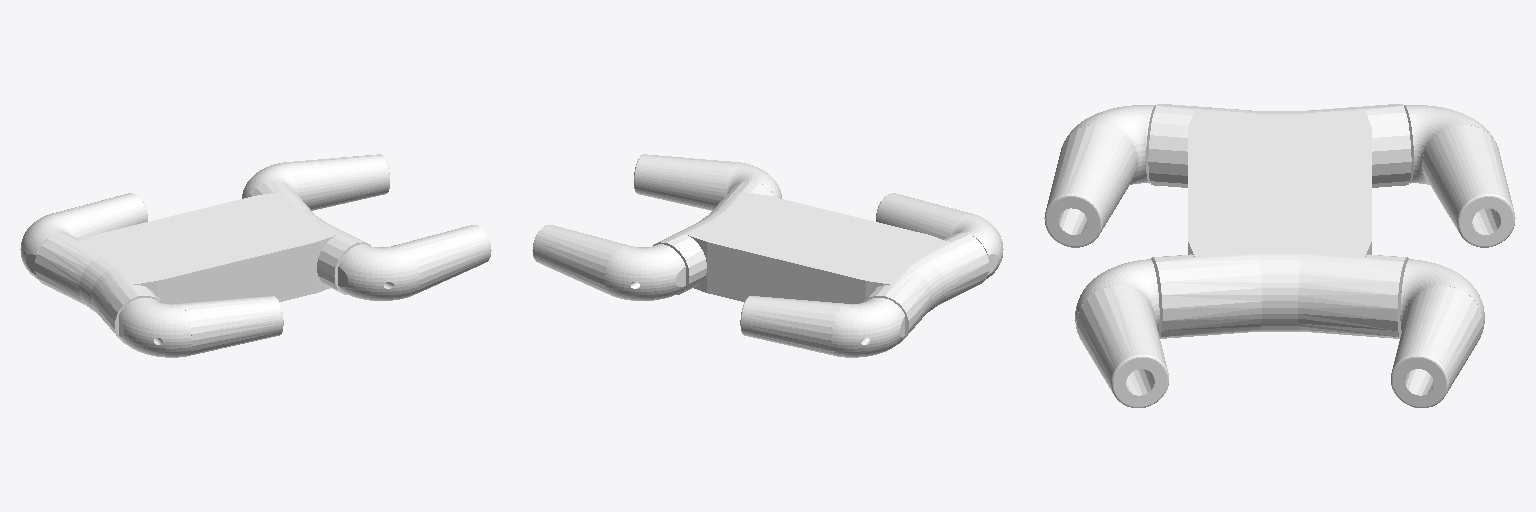
The robot description file, URDF, robot "10_degree":
<?xml version="1.0" encoding="utf-8"?>
<!-- This URDF was automatically created by SolidWorks to URDF Exporter! Originally created by [author] ([email redacted]) 
     Commit Version: 1.5.1-0-g916b5db  Build Version: 1.5.7152.31018
     For more information, please see http://wiki.ros.org/sw_urdf_exporter -->
<robot
  name="10_degree">
  <link
    name="base_link">
    <inertial>
      <origin
        xyz="-2.0817E-17 3.5739E-08 0"
        rpy="0 0 0" />
      <mass
        value="2.942" />
      <inertia
        ixx="0.0108347"
        ixy="-5.0441E-18"
        ixz="-1.037E-10"
        iyy="0.0404681"
        iyz="-5.3374E-18"
        izz="0.0486814" />
    </inertial>
    <visual>
      <origin
        xyz="0 0 0"
        rpy="0 0 0" />
      <geometry>
        <mesh
          filename="package://10_degree/meshes/base_link.STL" />
      </geometry>
      <material
        name="">
        <color
          rgba="1 1 1 1" />
      </material>
    </visual>
    <collision>
      <origin
        xyz="0 0 0"
        rpy="0 0 0" />
      <geometry>
        <mesh
          filename="package://10_degree/meshes/base_link.STL" />
      </geometry>
    </collision>
  </link>
  <link
    name="left_front_link">
    <inertial>
      <origin
        xyz="-2.4436E-08 0.05683 -0.036011"
        rpy="0 0 0" />
      <mass
        value="0.095" />
      <inertia
        ixx="0.0002672"
        ixy="5.6488E-10"
        ixz="9.186E-10"
        iyy="0.0000540"
        iyz="2.33E-05"
        izz="0.0002642" />
    </inertial>
    <visual>
      <origin
        xyz="0 0 0"
        rpy="0 0 0" />
      <geometry>
        <mesh
          filename="package://10_degree/meshes/left_front_link.STL" />
      </geometry>
      <material
        name="">
        <color
          rgba="1 1 1 1" />
      </material>
    </visual>
    <collision>
      <origin
        xyz="0 0 0"
        rpy="0 0 0" />
      <geometry>
        <mesh
          filename="package://10_degree/meshes/left_front_link.STL" />
      </geometry>
    </collision>
  </link>
  <joint
    name="left_front_leg"
    type="continuous">
    <origin
      xyz="0.14789 0.10144 0"
      rpy="1.7453 1.5708 0" />
    <parent
      link="base_link" />
    <child
      link="left_front_link" />
    <axis
      xyz="0 0 -1" />
    <limit
      effort="5"
      velocity="487" />
  </joint>
  <link
    name="right_front_link">
    <inertial>
      <origin
        xyz="2.4436E-08 0.05683 0.036011"
        rpy="0 0 0" />
      <mass
        value="0.095" />
      <inertia
        ixx="0.0002672"
        ixy="-5.6488E-10"
        ixz="9.186E-10"
        iyy="0.0000540"
        iyz="-2.33E-05"
        izz="0.0002642" />
    </inertial>
    <visual>
      <origin
        xyz="0 0 0"
        rpy="0 0 0" />
      <geometry>
        <mesh
          filename="package://10_degree/meshes/right_front_link.STL" />
      </geometry>
      <material
        name="">
        <color
          rgba="1 1 1 1" />
      </material>
    </visual>
    <collision>
      <origin
        xyz="0 0 0"
        rpy="0 0 0" />
      <geometry>
        <mesh
          filename="package://10_degree/meshes/right_front_link.STL" />
      </geometry>
    </collision>
  </link>
  <joint
    name="right_front_leg"
    type="continuous">
    <origin
      xyz="0.14789 -0.10144 0"
      rpy="1.3963 1.5708 0" />
    <parent
      link="base_link" />
    <child
      link="right_front_link" />
    <axis
      xyz="0 0 1" />
    <limit
      effort="5"
      velocity="487" />
  </joint>
  <link
    name="right_back_link">
    <inertial>
      <origin
        xyz="5.7759E-09 0.05683 0.03601"
        rpy="0 0 0" />
      <mass
        value="0.095" />
      <inertia
        ixx="0.0002672"
        ixy="-5.3462E-10"
        ixz="5.876E-10"
        iyy="0.0000540"
        iyz="-2.33E-05"
        izz="0.0002642" />
    </inertial>
    <visual>
      <origin
        xyz="0 0 0"
        rpy="0 0 0" />
      <geometry>
        <mesh
          filename="package://10_degree/meshes/right_back_link.STL" />
      </geometry>
      <material
        name="">
        <color
          rgba="1 1 1 1" />
      </material>
    </visual>
    <collision>
      <origin
        xyz="0 0 0"
        rpy="0 0 0" />
      <geometry>
        <mesh
          filename="package://10_degree/meshes/right_back_link.STL" />
      </geometry>
    </collision>
  </link>
  <joint
    name="right_back_leg"
    type="continuous">
    <origin
      xyz="-0.14789 -0.10144 0"
      rpy="1.7453 1.5708 0" />
    <parent
      link="base_link" />
    <child
      link="right_back_link" />
    <axis
      xyz="0 0 1" />
    <limit
      effort="5"
      velocity="487" />
  </joint>
  <link
    name="left_back_link">
    <inertial>
      <origin
        xyz="-5.7759E-09 0.05683 -0.03601"
        rpy="0 0 0" />
      <mass
        value="0.095" />
      <inertia
        ixx="0.0002672"
        ixy="5.3462E-10"
        ixz="5.876E-10"
        iyy="0.0000540"
        iyz="2.33E-05"
        izz="0.0002642" />
    </inertial>
    <visual>
      <origin
        xyz="0 0 0"
        rpy="0 0 0" />
      <geometry>
        <mesh
          filename="package://10_degree/meshes/left_back_link.STL" />
      </geometry>
      <material
        name="">
        <color
          rgba="1 1 1 1" />
      </material>
    </visual>
    <collision>
      <origin
        xyz="0 0 0"
        rpy="0 0 0" />
      <geometry>
        <mesh
          filename="package://10_degree/meshes/left_back_link.STL" />
      </geometry>
    </collision>
  </link>
  <joint
    name="left_back_leg"
    type="continuous">
    <origin
      xyz="-0.14789 0.10144 0"
      rpy="1.3963 1.5708 0" />
    <parent
      link="base_link" />
    <child
      link="left_back_link" />
    <axis
      xyz="0 0 -1" />
    <limit
      effort="5"
      velocity="487" />
  </joint>
</robot>

--- Render facts (derived) ---
3 views of the same robot in one strip: view 1: azimuth 30°, elevation 25°; view 2: azimuth 150°, elevation 25°; view 3: azimuth 270°, elevation 25° (orthographic).
Model 10_degree with 5 links and 4 joints (4 continuous), rooted at base_link, posed all joints at 0.
Links seen in each view (by area): view 1: base_link, right_back_link, right_front_link, left_front_link, left_back_link; view 2: base_link, left_back_link, left_front_link, right_front_link, right_back_link; view 3: base_link, right_back_link, left_back_link, left_front_link, right_front_link.
Link boxes in pixels (x1=…): base_link: x1=35, y1=181, x2=370, y2=344; right_back_link: x1=119, y1=296, x2=283, y2=357; right_front_link: x1=338, y1=225, x2=491, y2=300; left_front_link: x1=242, y1=154, x2=389, y2=210; left_back_link: x1=20, y1=193, x2=147, y2=278; base_link: x1=653, y1=181, x2=988, y2=344; left_back_link: x1=740, y1=296, x2=904, y2=357; left_front_link: x1=532, y1=225, x2=685, y2=300; right_front_link: x1=634, y1=154, x2=781, y2=210; right_back_link: x1=876, y1=193, x2=1003, y2=278; base_link: x1=1148, y1=104, x2=1411, y2=338; right_back_link: x1=1044, y1=105, x2=1155, y2=247; left_back_link: x1=1404, y1=105, x2=1515, y2=247; left_front_link: x1=1391, y1=259, x2=1484, y2=407; right_front_link: x1=1075, y1=259, x2=1168, y2=407.
Size in the robot's own frame: 0.4948 by 0.3838 by 0.0672 metres.
Meshes: 5 distinct files referenced, 5 mesh visuals loaded (5 binary STL).